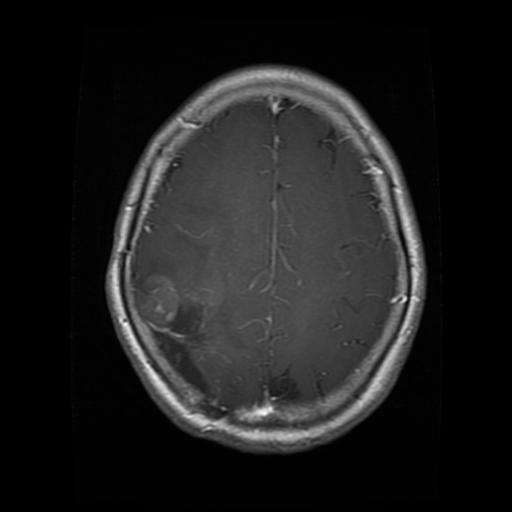Gliomia_tumour: (133, 267, 215, 403)
